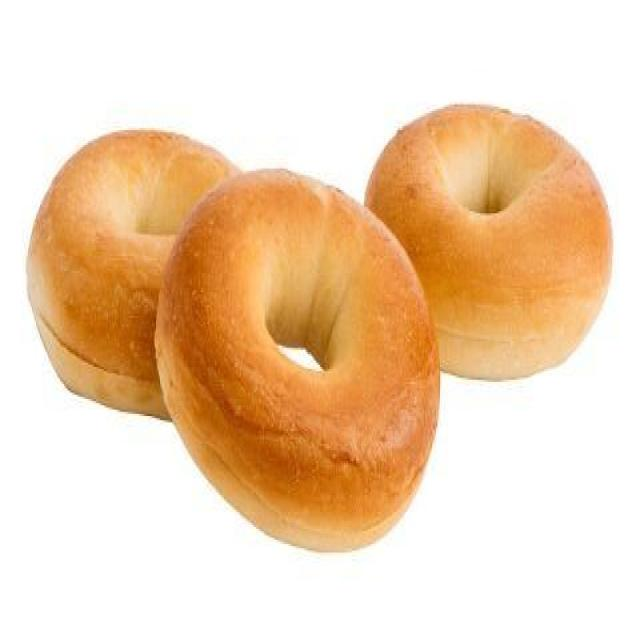Bagel: (155, 170, 439, 549), (365, 106, 611, 379), (28, 130, 236, 417)
